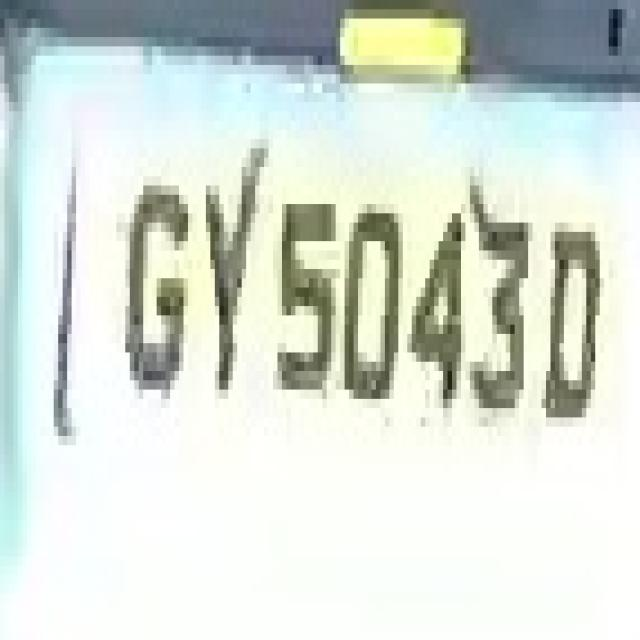0: (336, 158, 402, 408)
3: (466, 158, 532, 417)
4: (403, 176, 470, 408)
5: (273, 148, 358, 436)
D: (532, 204, 600, 436)
G: (112, 149, 192, 408)
Y: (188, 139, 260, 427)
